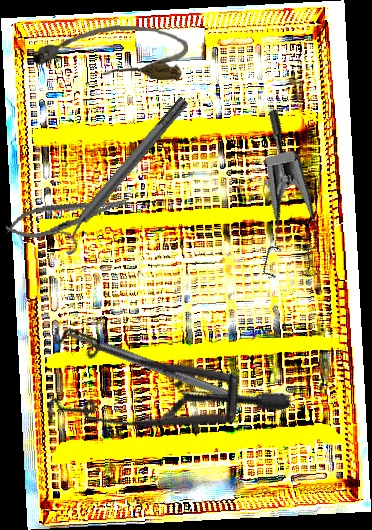Cannula: (30, 20, 190, 82)
Fixation Ring: (47, 90, 198, 258)
Needle Holder: (3, 187, 133, 245)
Scalpel Handle: (66, 328, 247, 407)
Speculum: (18, 260, 294, 487), (203, 108, 348, 295)
